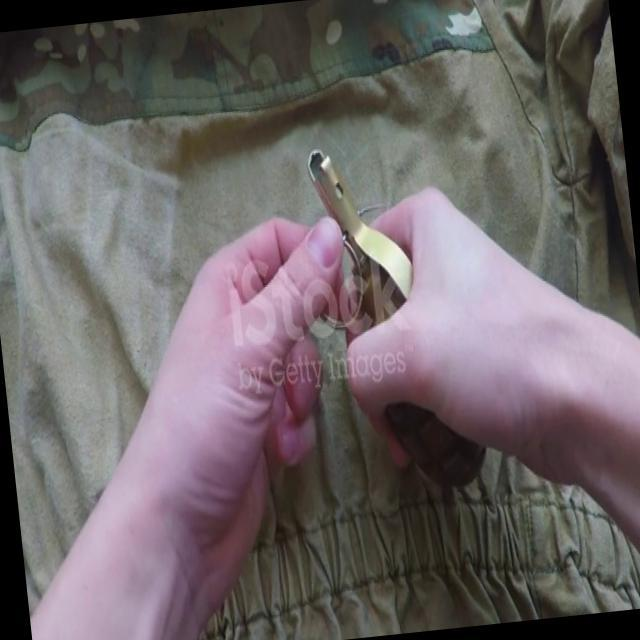grenade: (310, 127, 492, 494)
